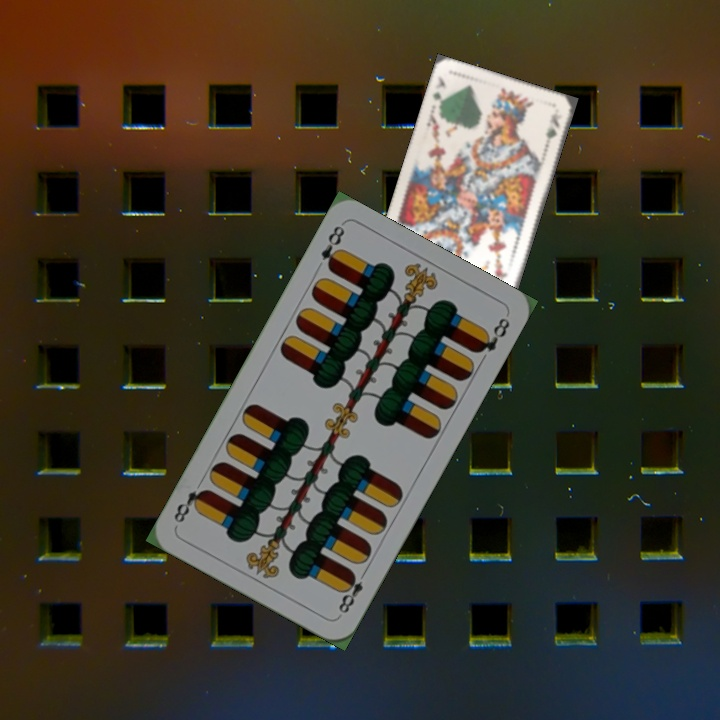E8: (334, 565, 370, 616), (317, 221, 348, 273)
GK: (428, 73, 449, 112)
